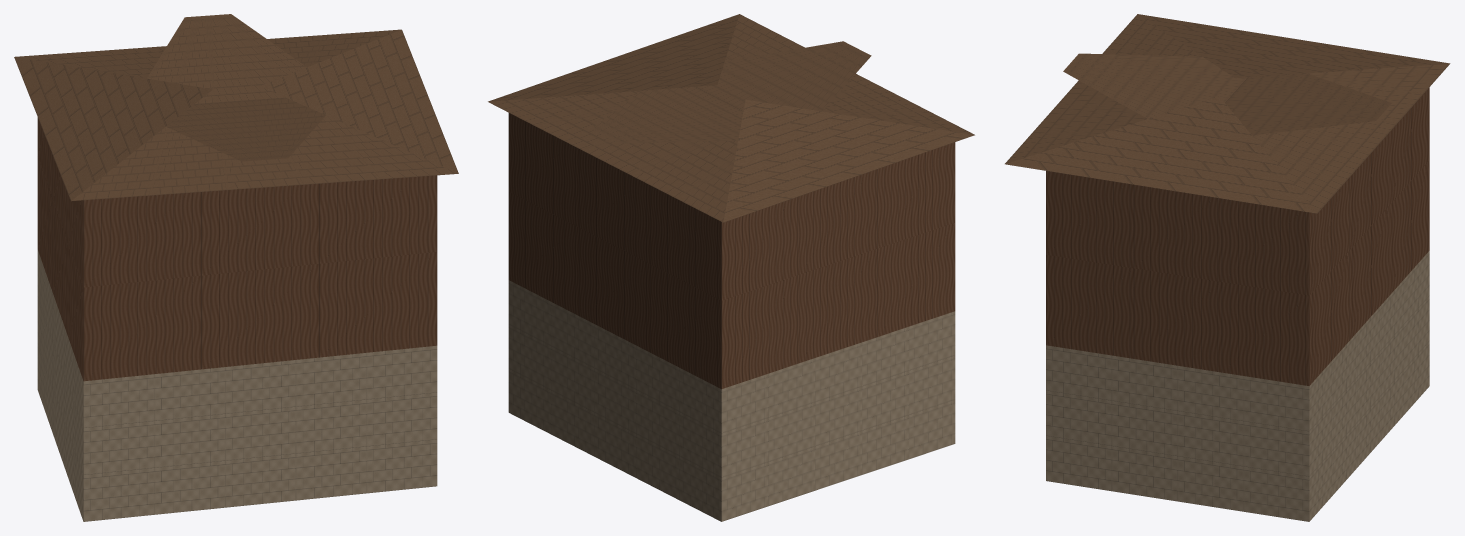
Rendered from bld_c43_30_274.gltf.
3 renders of one model, left to right at view 1: azimuth 30°, elevation 25°; view 2: azimuth 150°, elevation 25°; view 3: azimuth 270°, elevation 25°, orthographic. The views are drawn at different scales.
Visible parts, largest first — view 1: bld_c43_30_274; view 2: bld_c43_30_274; view 3: bld_c43_30_274.
Boxes of the visible parts, <box> form: bld_c43_30_274: <box>14,14,458,521</box>; bld_c43_30_274: <box>488,14,974,521</box>; bld_c43_30_274: <box>1005,14,1450,521</box>.
Size of the model in its own units: 16.09 by 12.9 by 15.19.
Materials: 3 (3 with a texture image).
